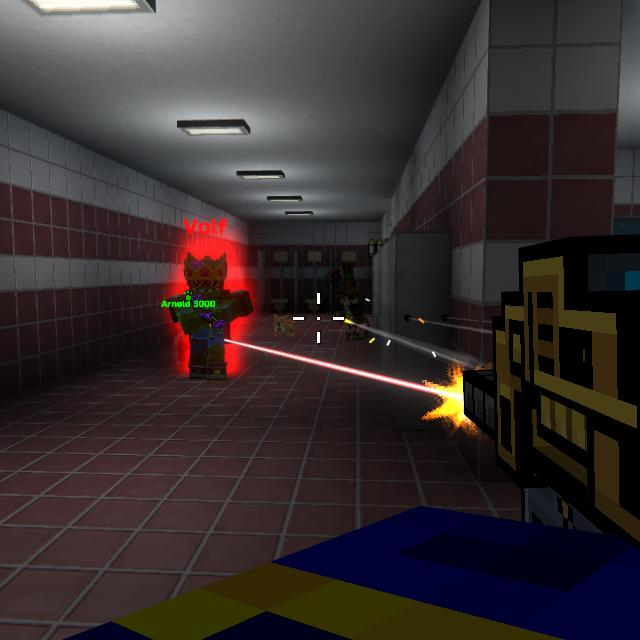Enemy: (168, 261, 255, 384)
